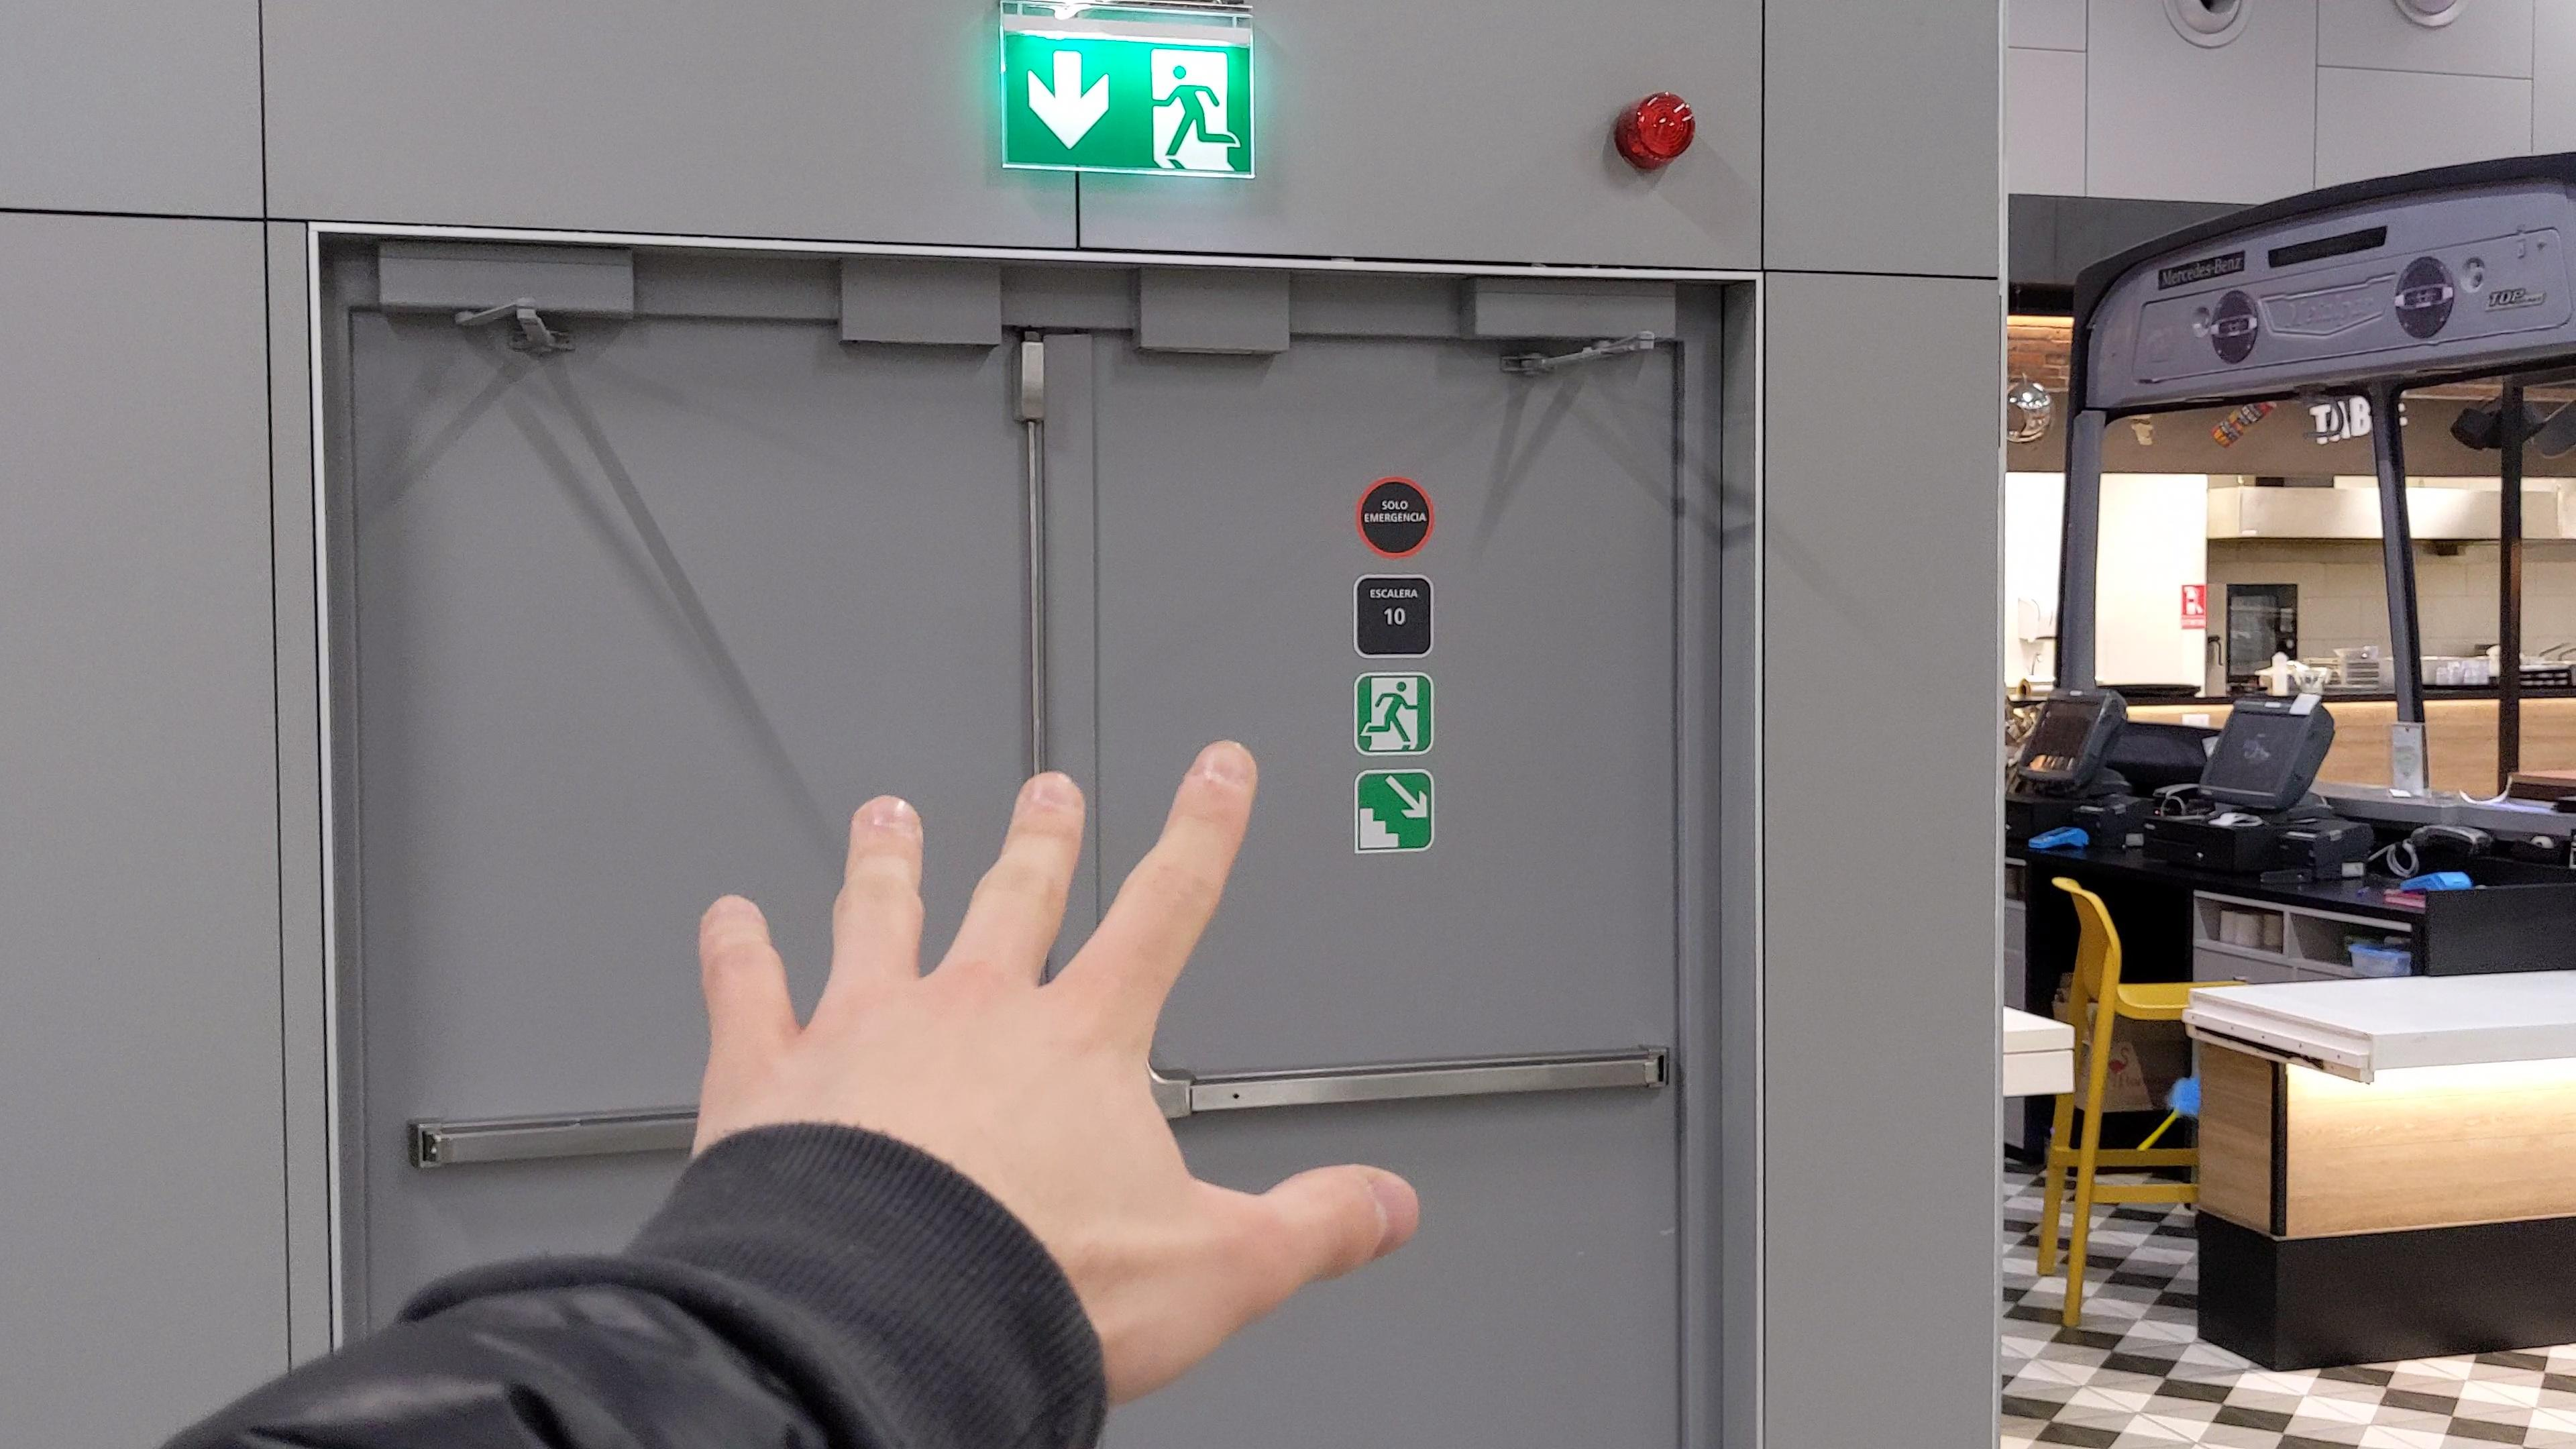emergency down arrow: (1024, 48, 1115, 150)
emergency exit: (1148, 46, 1244, 173), (1361, 676, 1422, 752)
